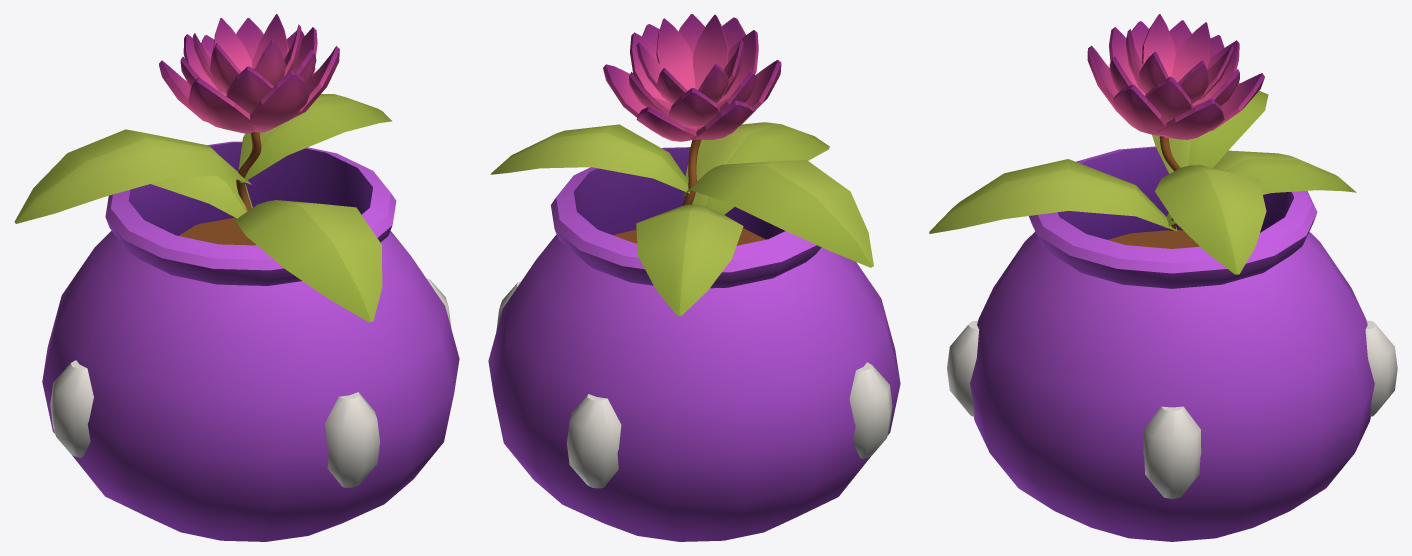
The model's file is PottedPlantA.FBX.
3 views of the same model, side by side, from view 1: azimuth 30°, elevation 25°; view 2: azimuth 150°, elevation 25°; view 3: azimuth 270°, elevation 25° (orthographic).
Visible parts, largest first — view 1: PottedPlantA; view 2: PottedPlantA; view 3: PottedPlantA.
Part boxes in pixels (left/top/right/bottom): PottedPlantA: left=14, top=14, right=459, bottom=541; PottedPlantA: left=488, top=14, right=900, bottom=541; PottedPlantA: left=929, top=14, right=1397, bottom=541.
Size of the model in its own units: 0.5168 by 0.5721 by 0.5227.
